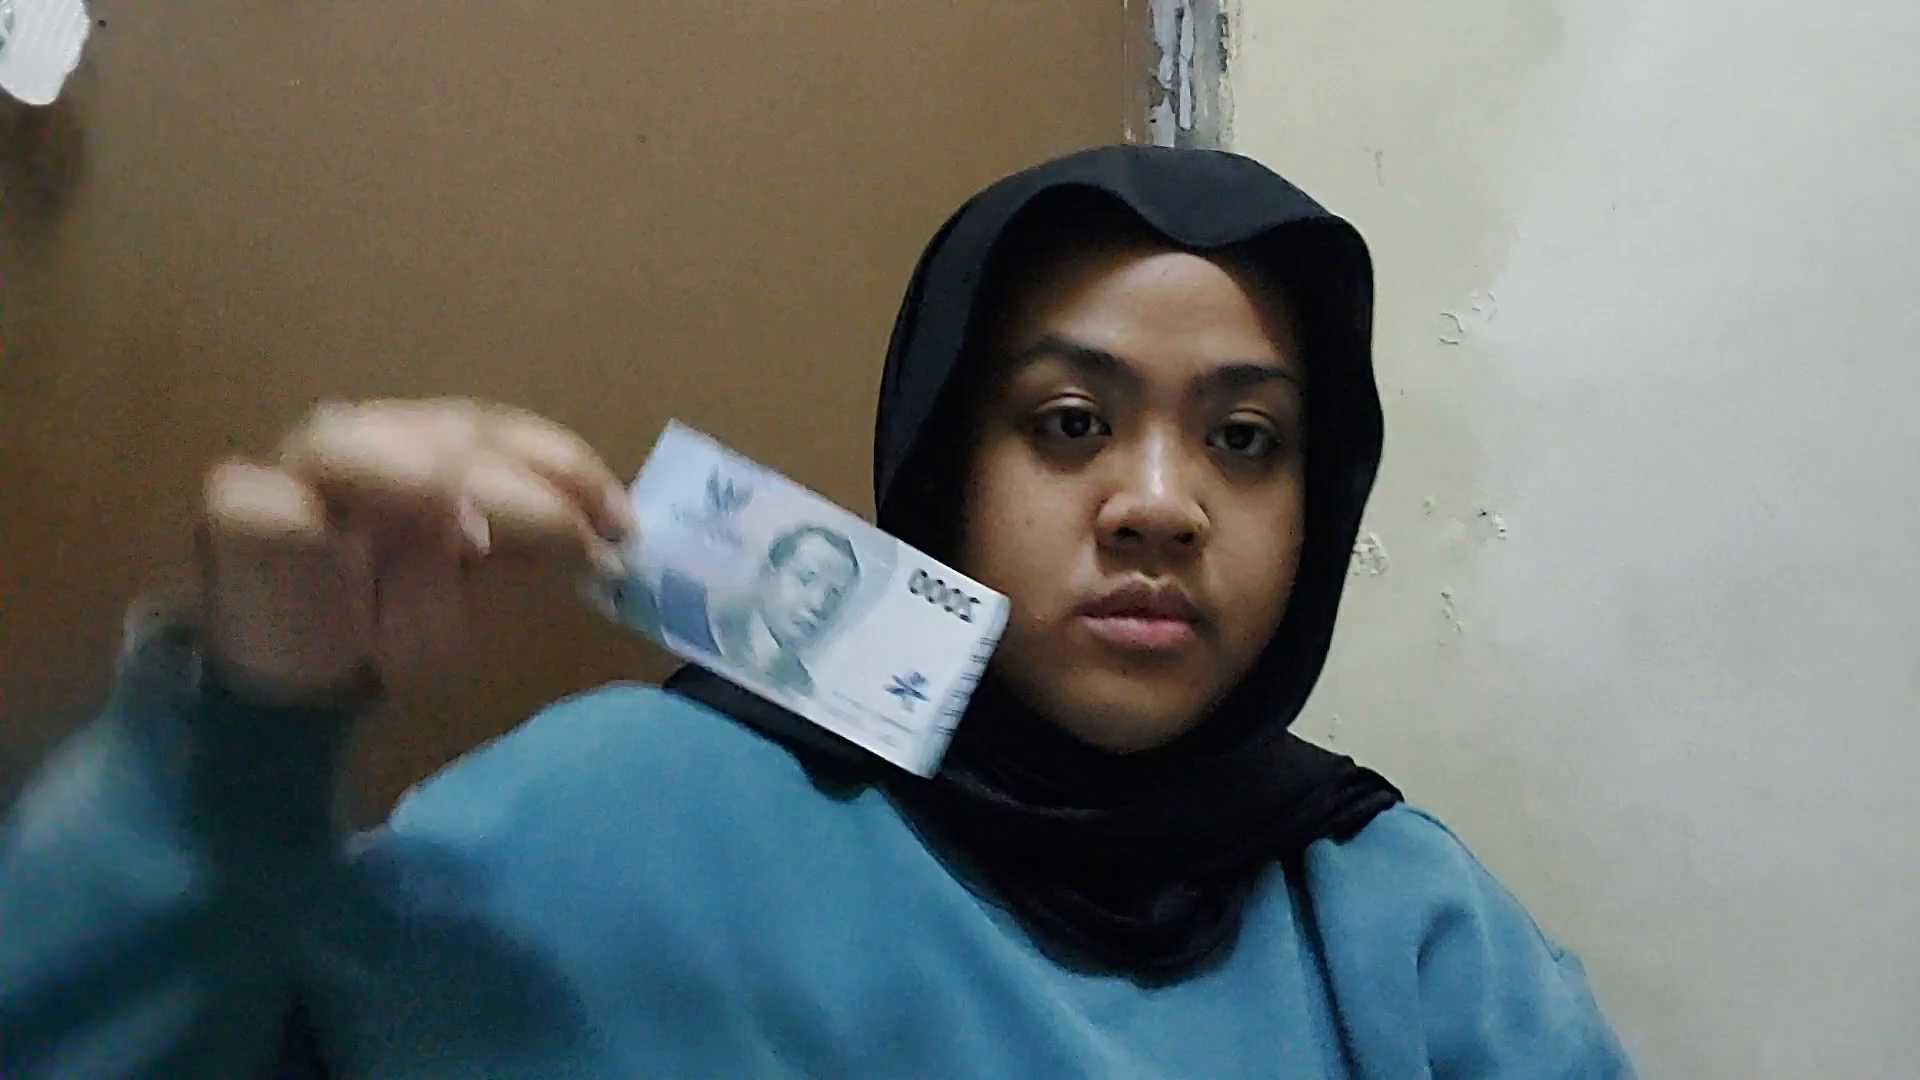2k: (665, 418, 1064, 625)
